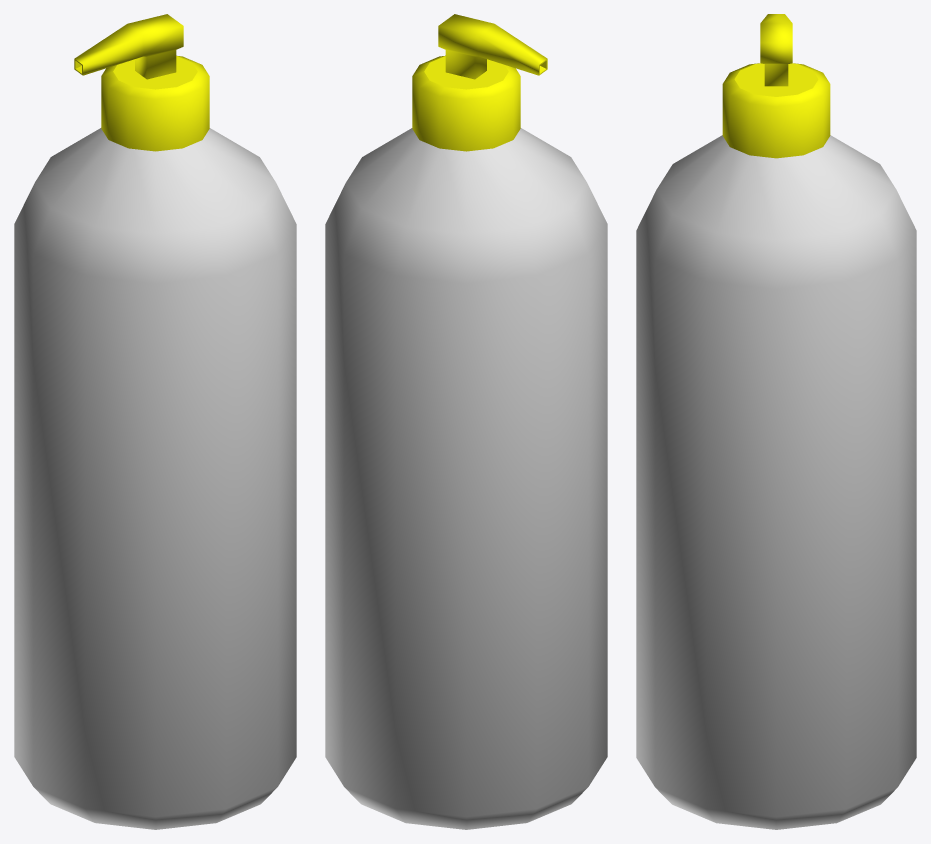
The model's file is Bottle07.fbx.
The picture shows the model from 3 angles, left to right: view 1: azimuth 30°, elevation 25°; view 2: azimuth 150°, elevation 25°; view 3: azimuth 270°, elevation 25°; orthographic projection.
Parts seen in each view (by area): view 1: Bottle07; view 2: Bottle07; view 3: Bottle07.
Part boxes in pixels (x1,y1,x2,y2): Bottle07: (14,14,296,829); Bottle07: (325,14,607,829); Bottle07: (636,14,916,829).
Bounding box in the file's own units: 4.97 × 14.64 × 4.98.
